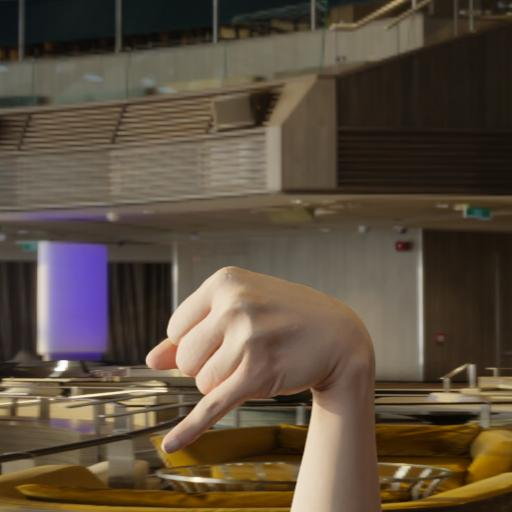J: (136, 236, 387, 512)
